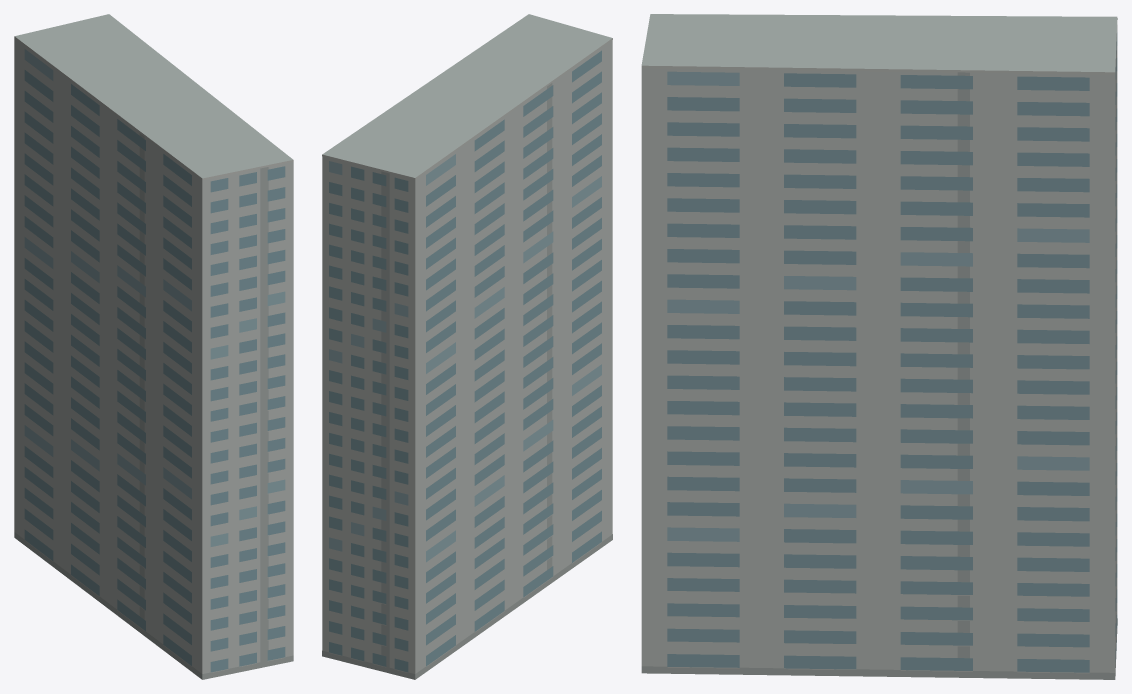
File: residential-c9a78238-9030-4d05-a435-a49384834bd8.glb
The picture shows the model from 3 angles, left to right: view 1: azimuth 30°, elevation 25°; view 2: azimuth 150°, elevation 25°; view 3: azimuth 270°, elevation 25°; orthographic projection. The views are drawn at different scales.
Visible parts, largest first — view 1: residential-c9a78238-9030-4d05-a435-a49384834bd8.tmp; view 2: residential-c9a78238-9030-4d05-a435-a49384834bd8.tmp; view 3: residential-c9a78238-9030-4d05-a435-a49384834bd8.tmp.
Part boxes in pixels (left/top/right/bottom): residential-c9a78238-9030-4d05-a435-a49384834bd8.tmp: left=14, top=14, right=293, bottom=679; residential-c9a78238-9030-4d05-a435-a49384834bd8.tmp: left=322, top=14, right=612, bottom=679; residential-c9a78238-9030-4d05-a435-a49384834bd8.tmp: left=641, top=14, right=1117, bottom=679.
Bounding box in the file's own units: 13.38 × 65 × 46.15.
